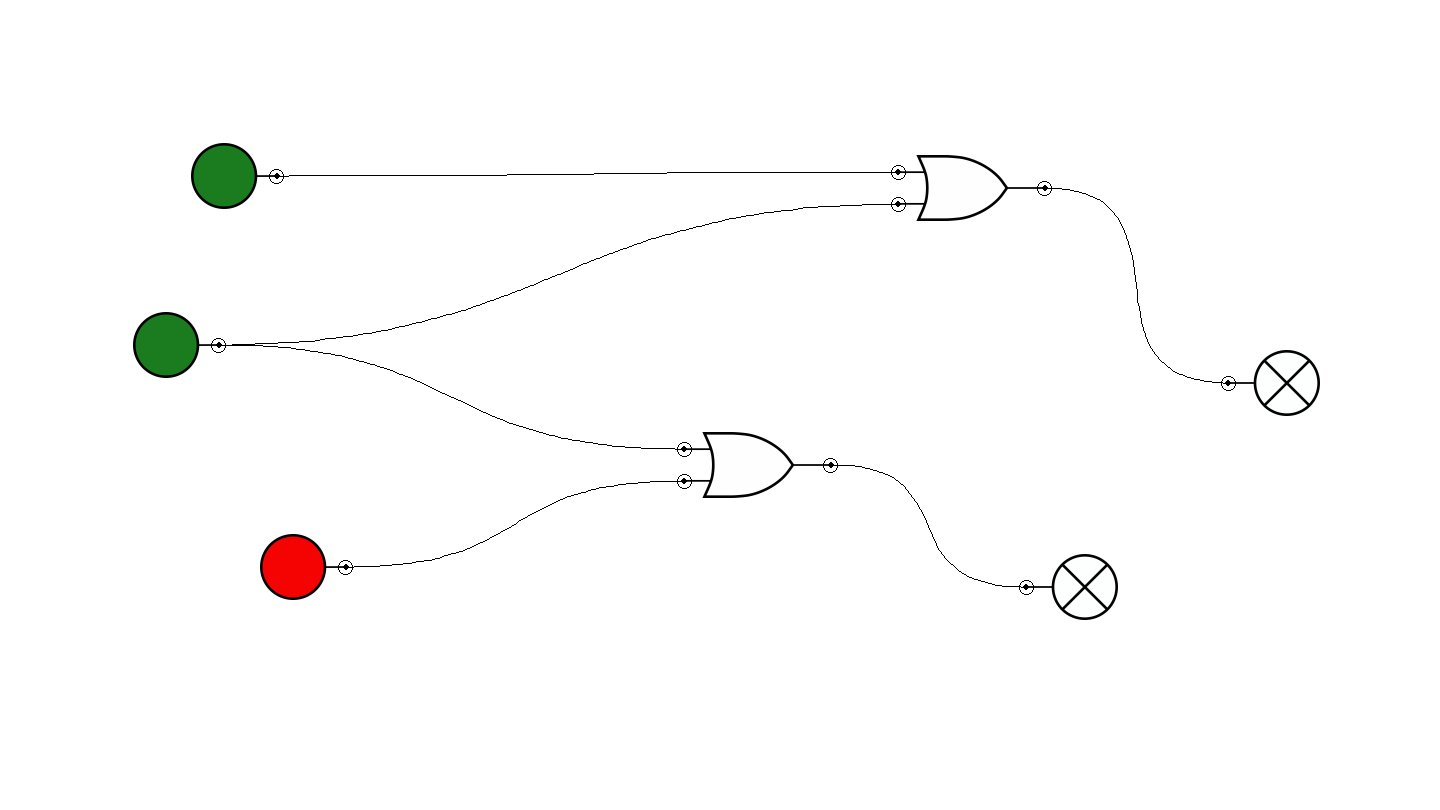bulb: (1221, 350, 1320, 416), (1019, 554, 1118, 620)
or: (677, 432, 838, 498), (891, 155, 1052, 221)
switch_False: (260, 534, 353, 600)
switch_True: (133, 312, 226, 378), (191, 143, 284, 209)
